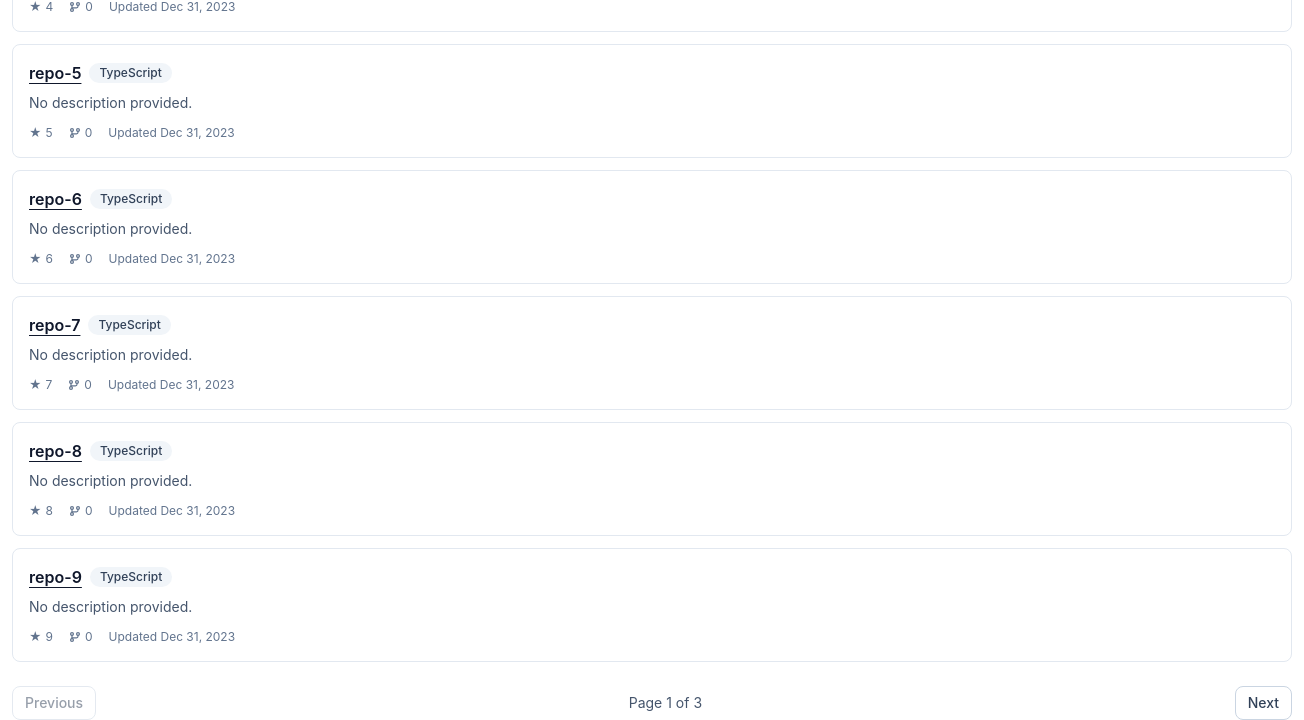
RepositoryExplorer › pagination › goes back to the previous page
(page scrolled)
Click the button "Next" at coordinates (1263, 703), box [1235,686,1292,719]
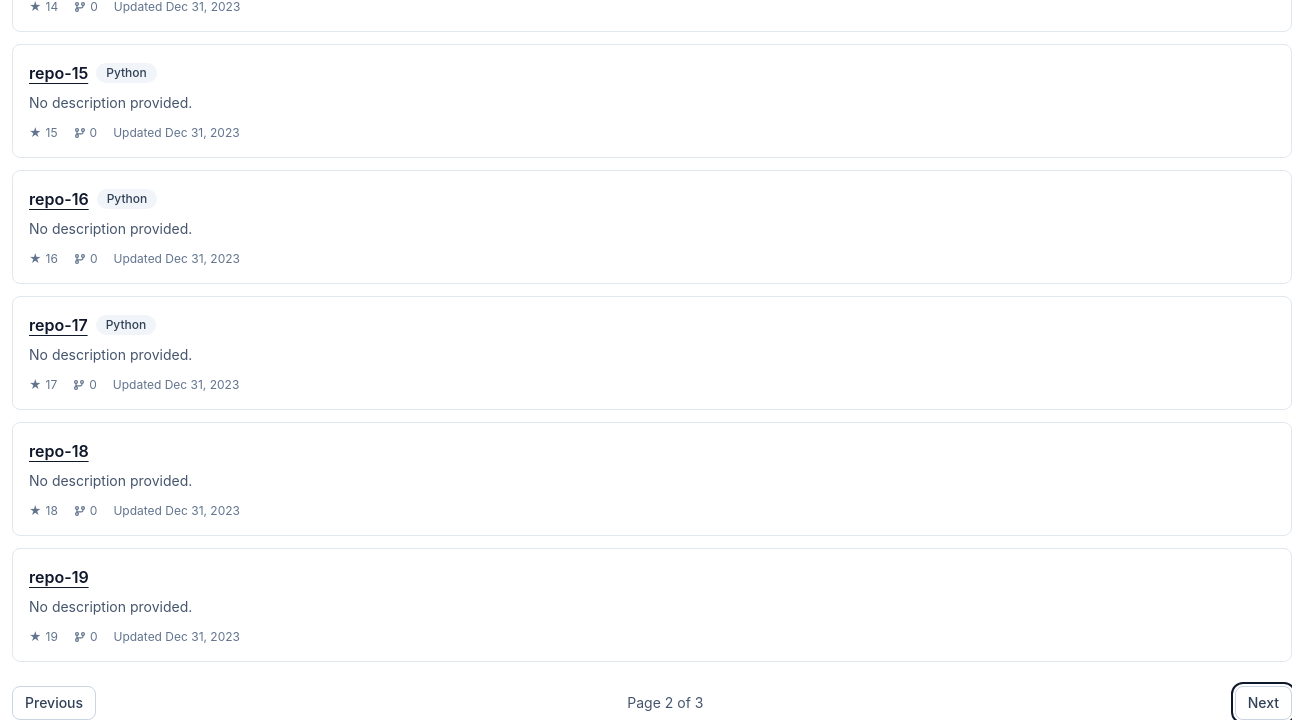
Click the button "Previous" at coordinates (54, 703), box [12,686,96,719]
(page scrolled)
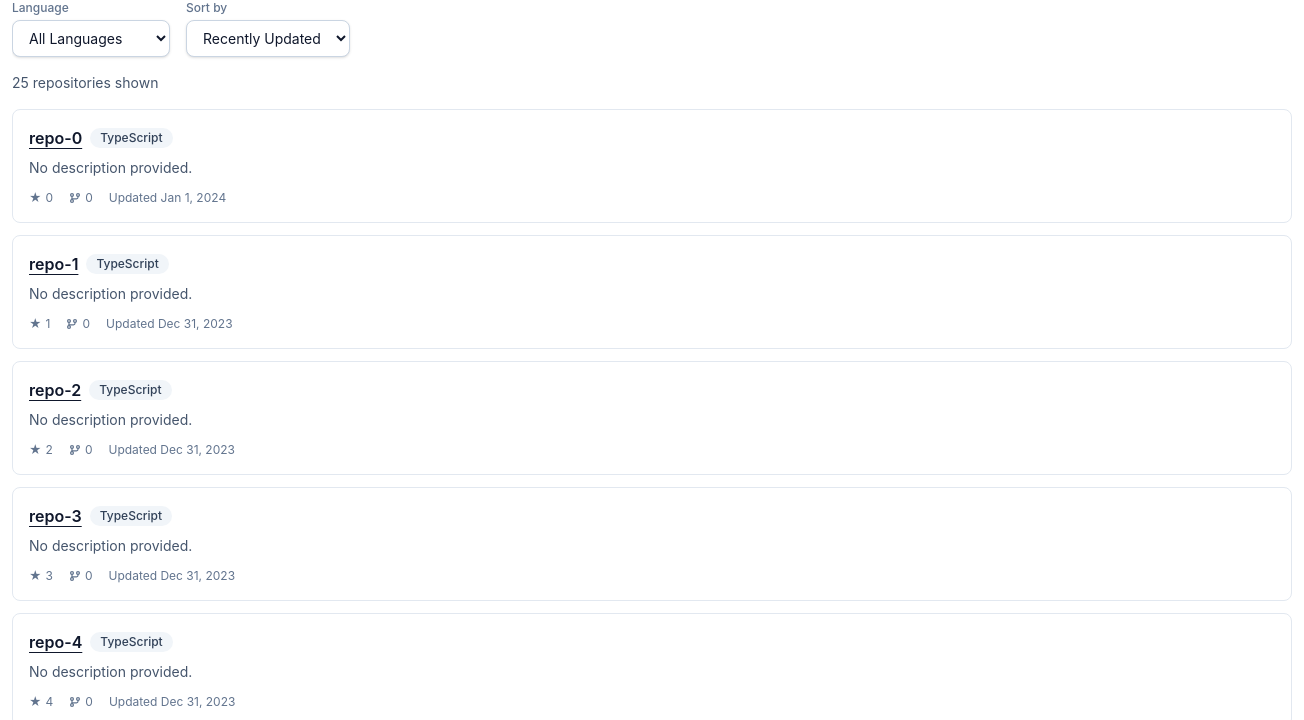
Result: the link "repo-0" is shown at [29,128,82,148]
